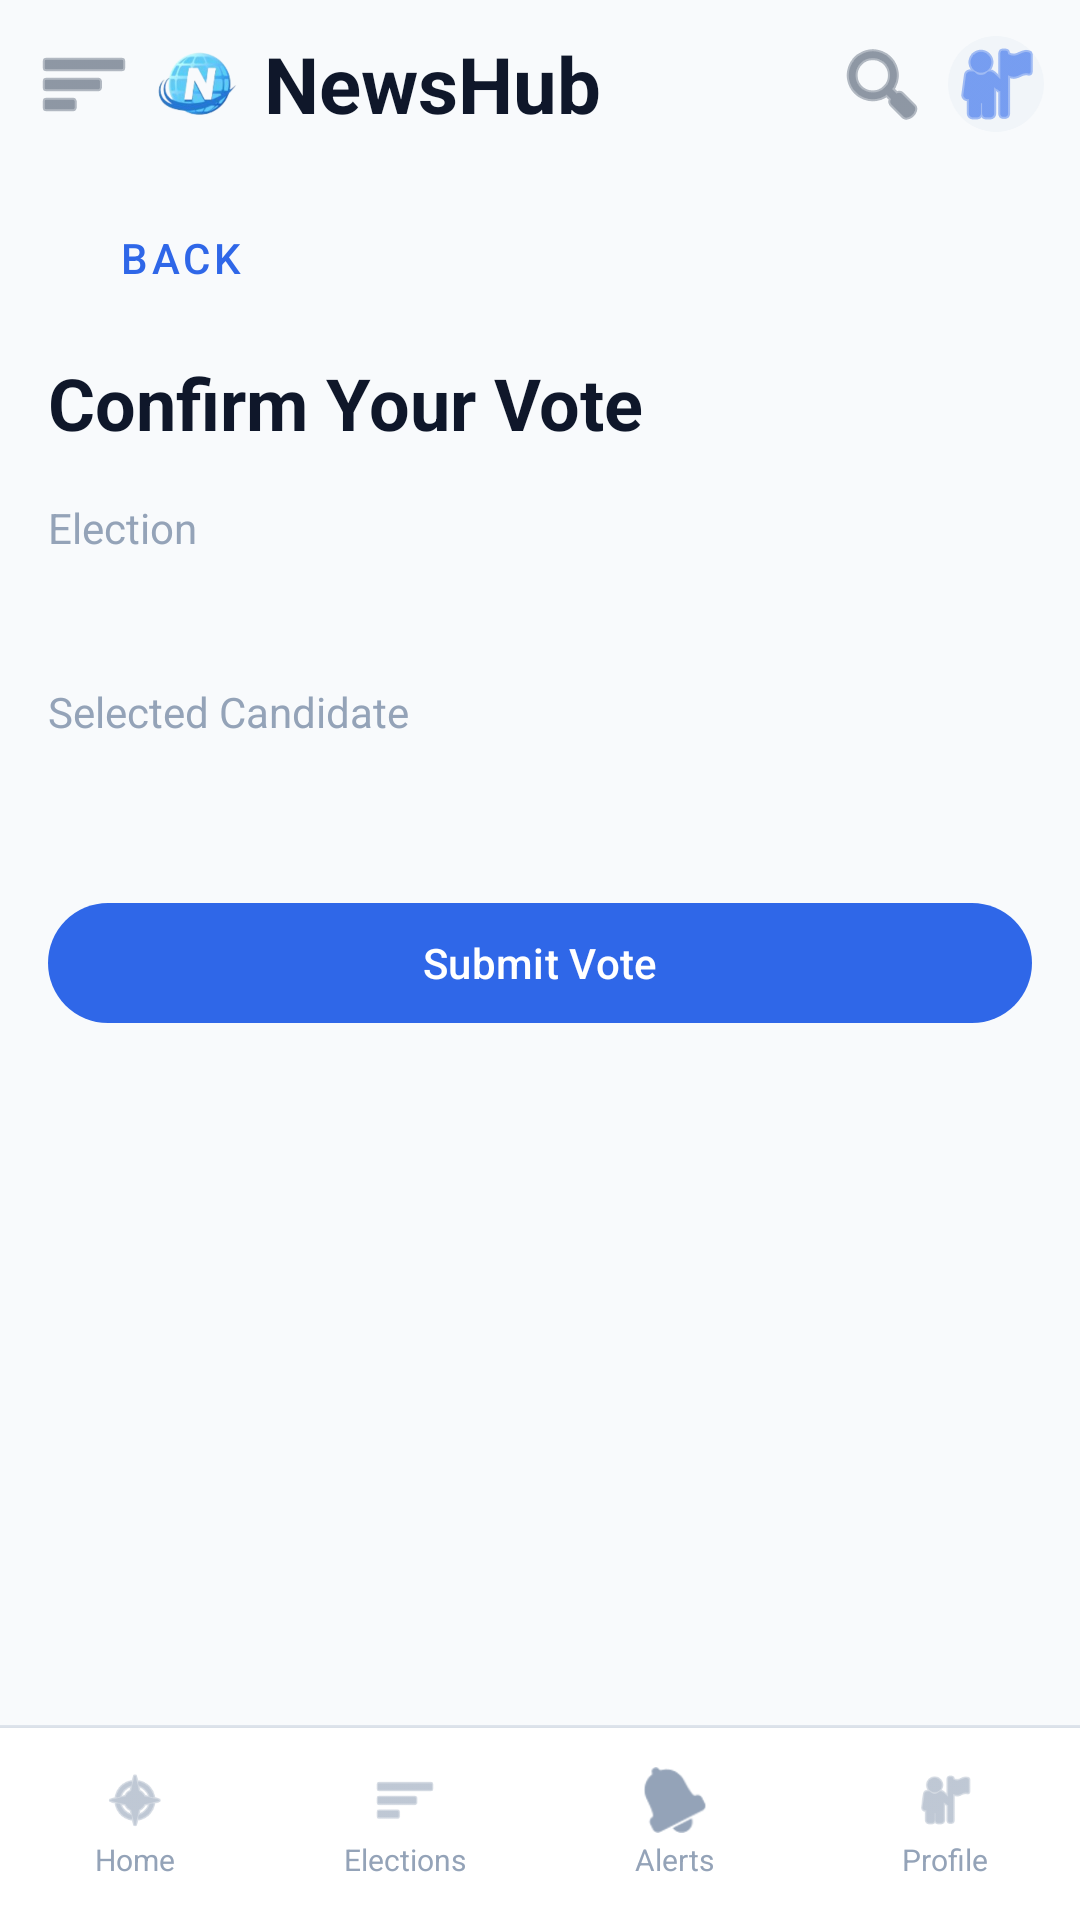

Icons on this 1080*1920 Android screen, each with its box as (x1=x1, y1=y1, x2=x2, y2=y2):
compass: (x1=109, y1=1775, x2=161, y2=1826)
Open menu: (x1=43, y1=58, x2=125, y2=111)
popup reminder: (x1=644, y1=1767, x2=706, y2=1833)
Profile: (x1=961, y1=48, x2=1033, y2=120)
sort by size: (x1=377, y1=1782, x2=433, y2=1819)
